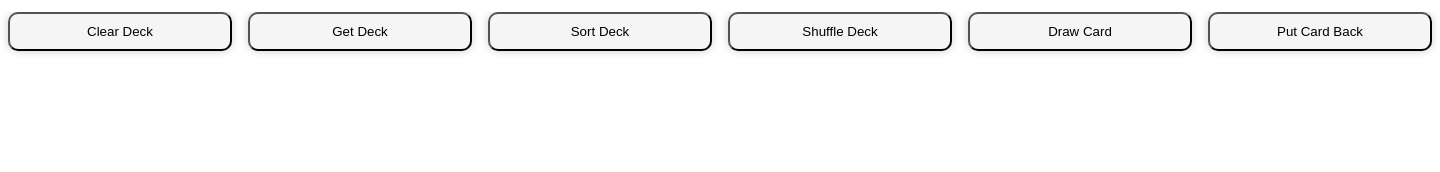
will clear the deck when button is pressed
This screenshot has width=1440, height=172.
Click the button "Clear Deck" at (120, 32), box top-left (8, 12), bottom-right (232, 51)
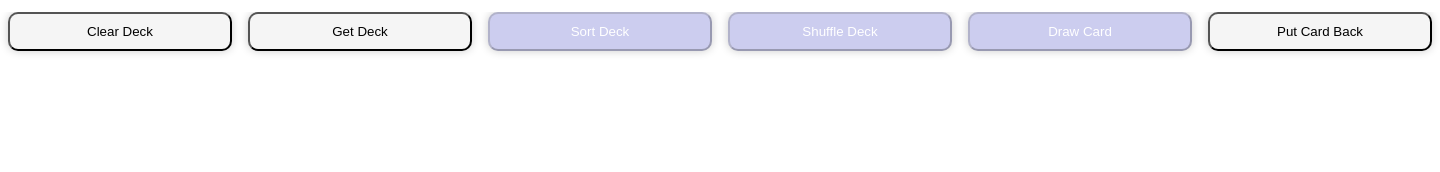
Expected: the button "Shuffle Deck" is disabled, top-left (728, 12), bottom-right (952, 51)
Expected: the button "Draw Card" is disabled, top-left (968, 12), bottom-right (1192, 51)
